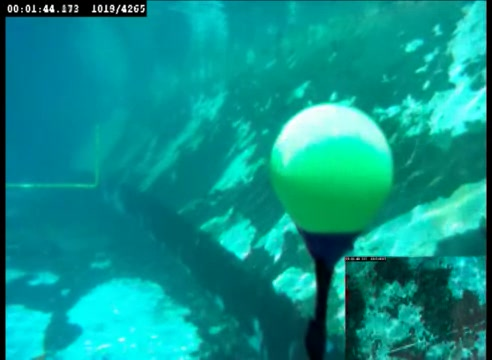buoy_green: (271, 102, 396, 254)
